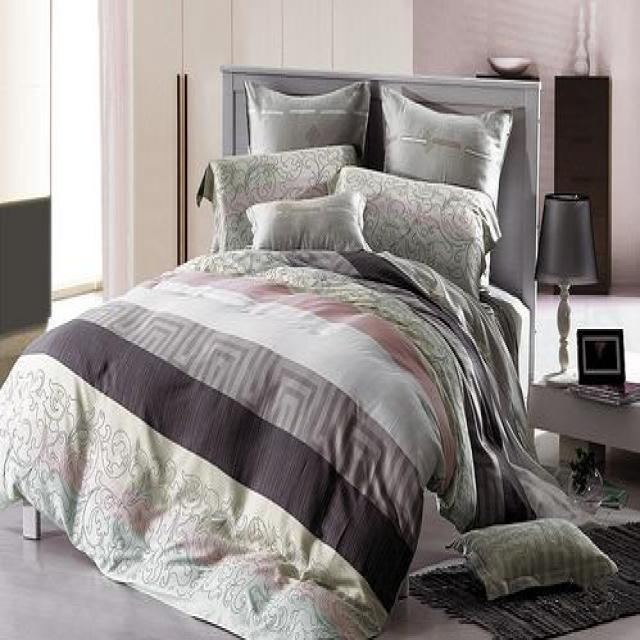bed: (0, 64, 541, 638)
